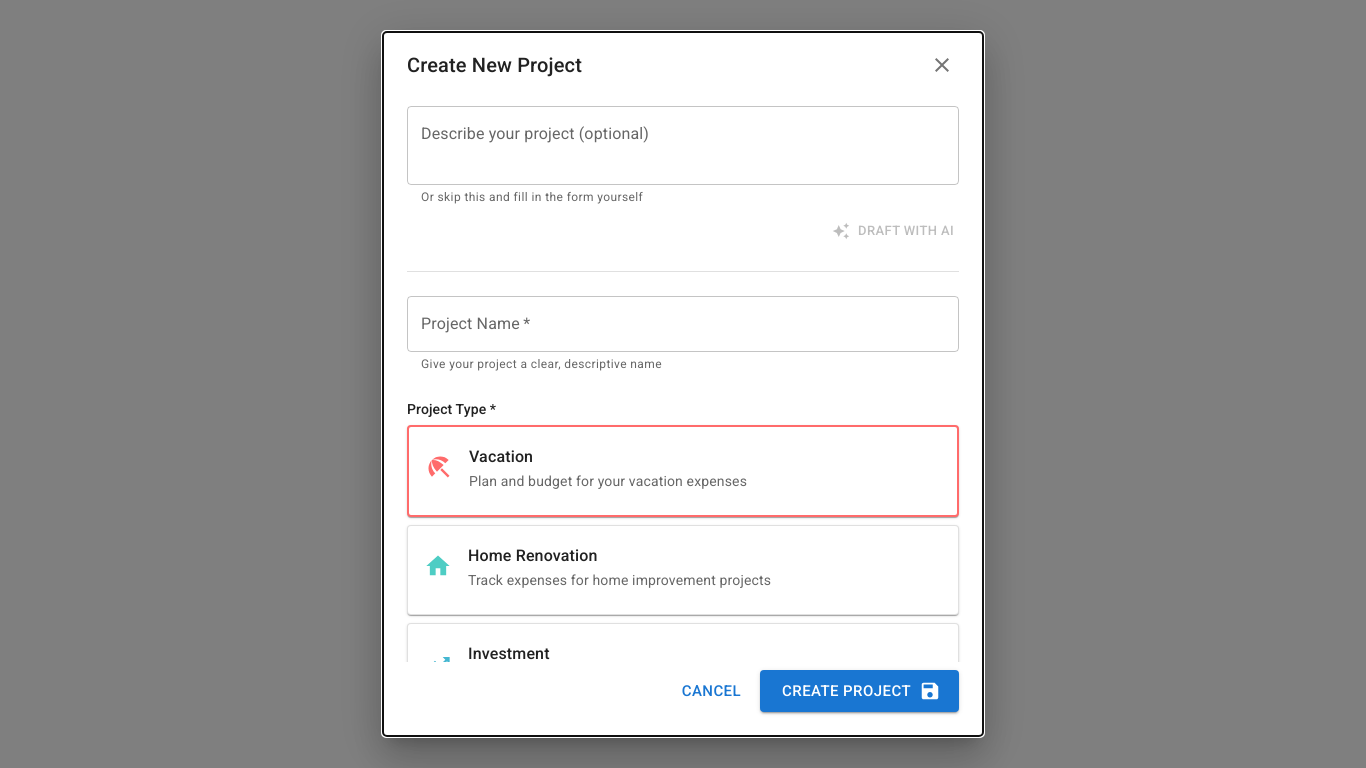
SimpleProjectCreationDialog drafting › falls back to the plain form when there is no draft to be had
Type "renovating the kitchen" into the text box labelled "Describe your project (optional)" at (683, 146), box [421,122,945,168]
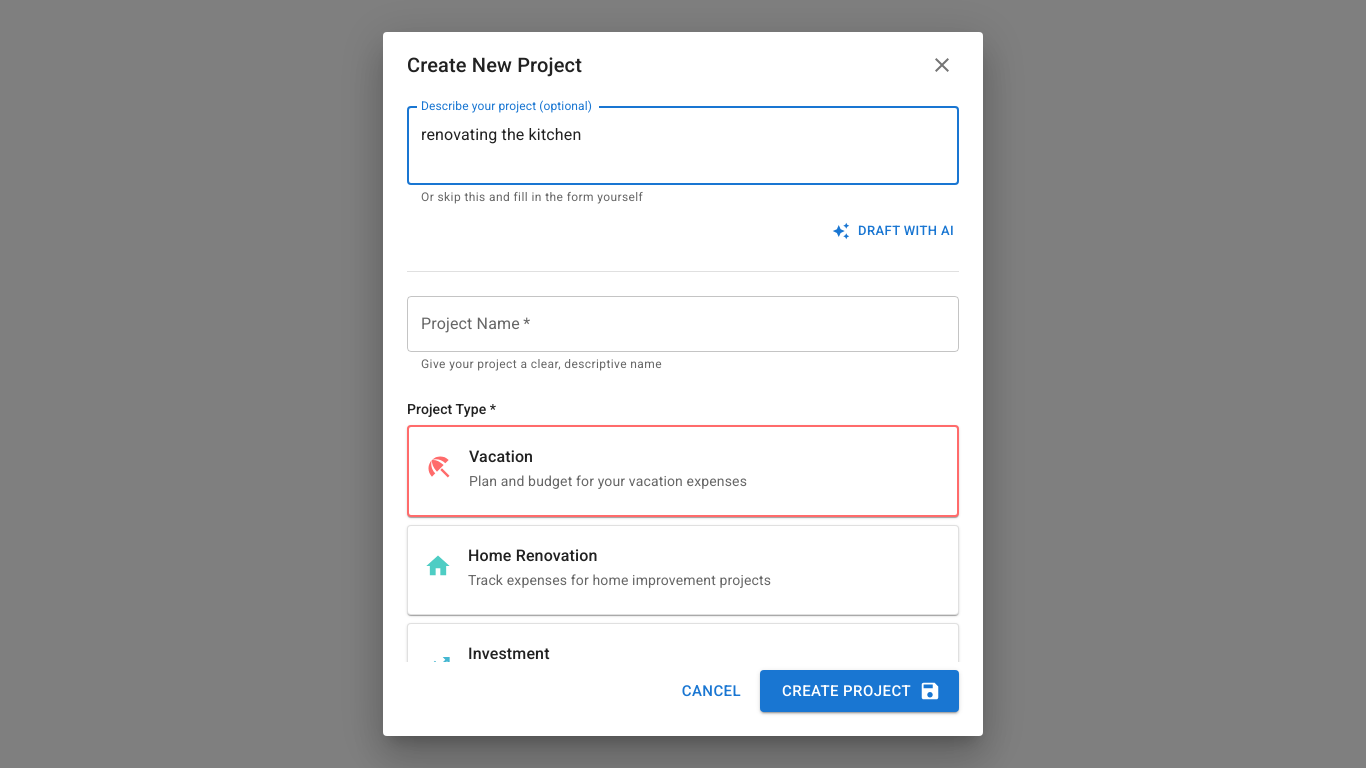
Click the button "Draft with AI" at (894, 231), box [829,216,959,247]
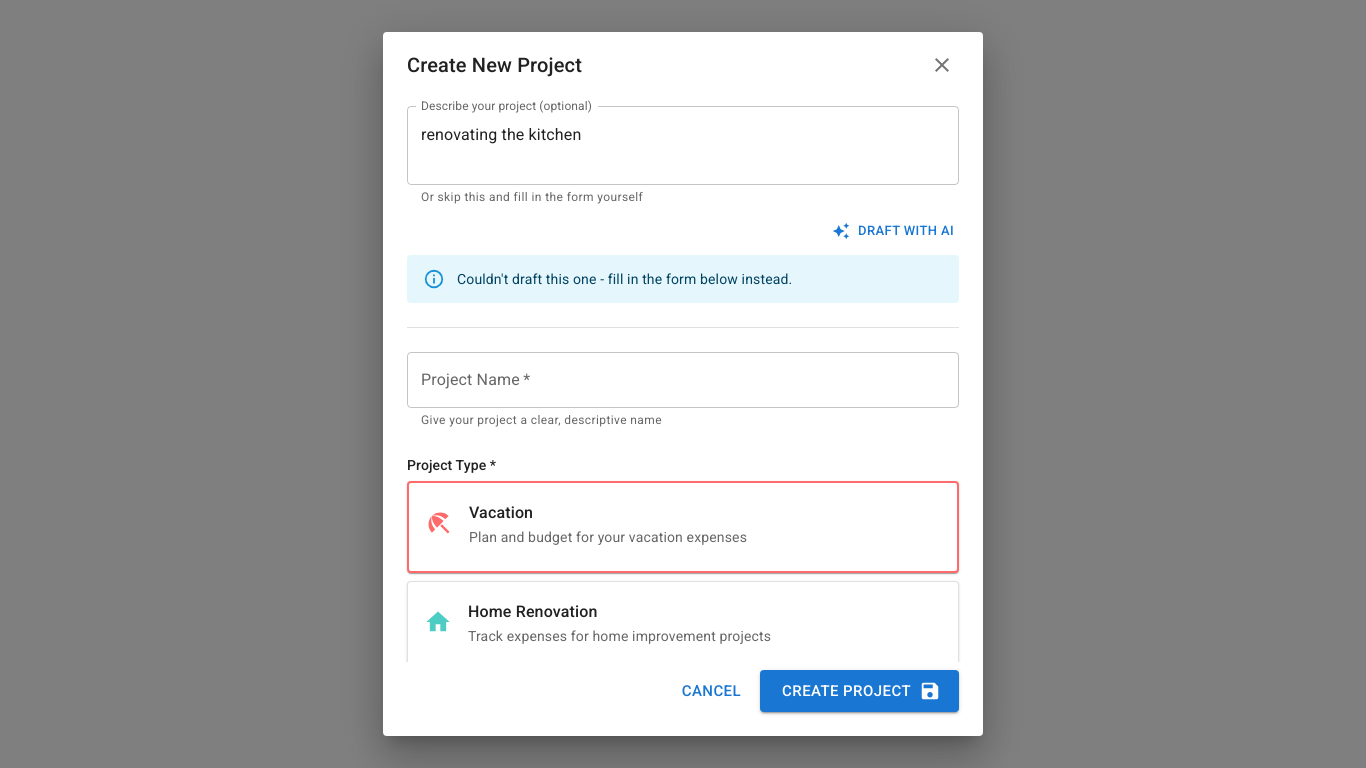
Expected: the button "Create Project" is enabled, [760,670,959,712]
Expected: the text "Couldn't draft this one - fill in the form below instead." is shown, [457,271,792,287]
